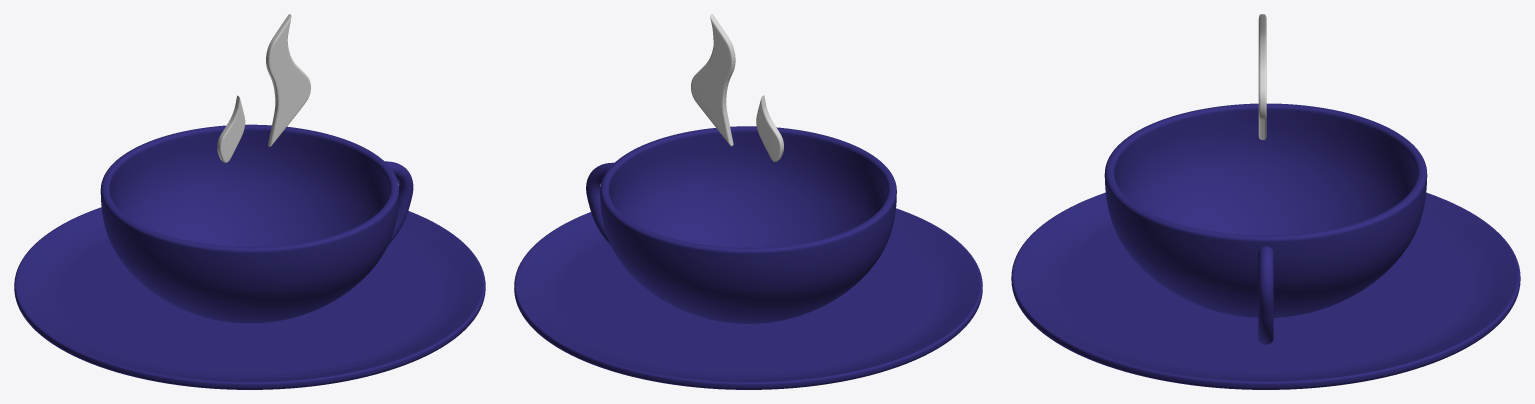
Rendered from coffee_mug.glb.
The picture shows the model from 3 angles, left to right: view 1: azimuth 30°, elevation 25°; view 2: azimuth 150°, elevation 25°; view 3: azimuth 270°, elevation 25°; orthographic projection. The views are drawn at different scales.
Visible parts, largest first — view 1: Cylinder.010; view 2: Cylinder.010; view 3: Cylinder.010.
Part boxes in pixels (x1,y1,x2,y2): Cylinder.010: (14,14,485,389); Cylinder.010: (514,14,982,389); Cylinder.010: (1011,14,1520,389).
Size of the model in its own units: 2.62 by 1.71 by 2.62.
